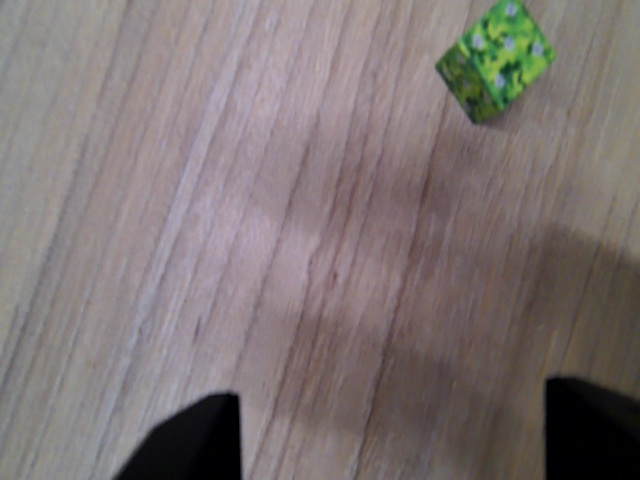grass: (434, 2, 559, 129)
